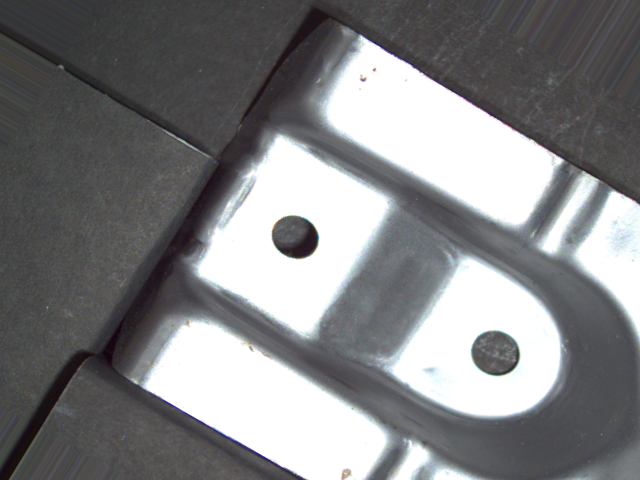defect: (468, 328, 525, 377)
